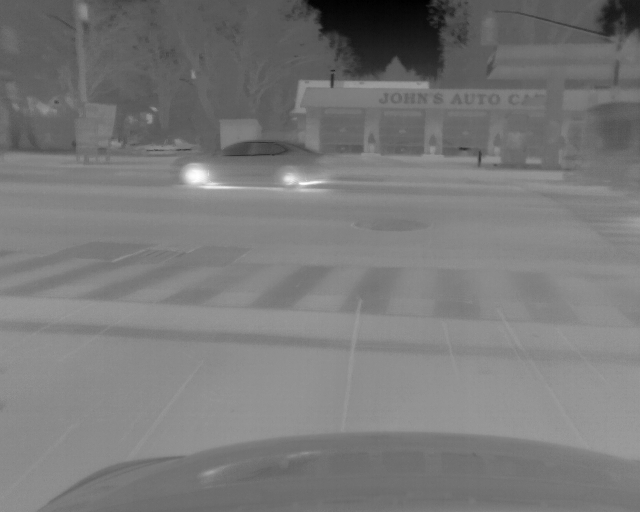car: (174, 139, 330, 191), (580, 102, 640, 189)
